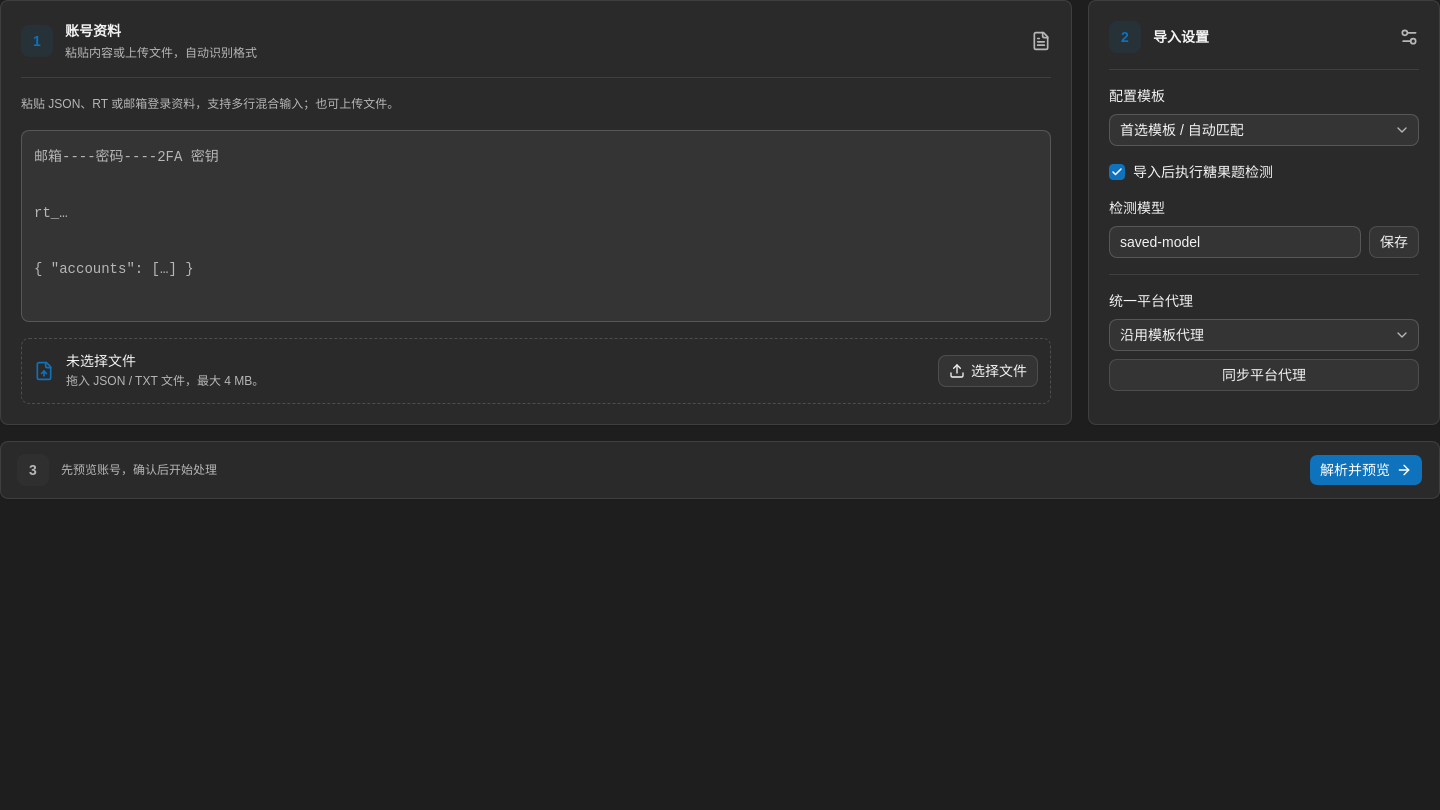
Test: 导入任务启动后清空账号资料并恢复已保存的默认模型
Replace the text in the field labelled "检测模型" with "temporary-model" at (1235, 242), box 1109,226 -> 1361,258
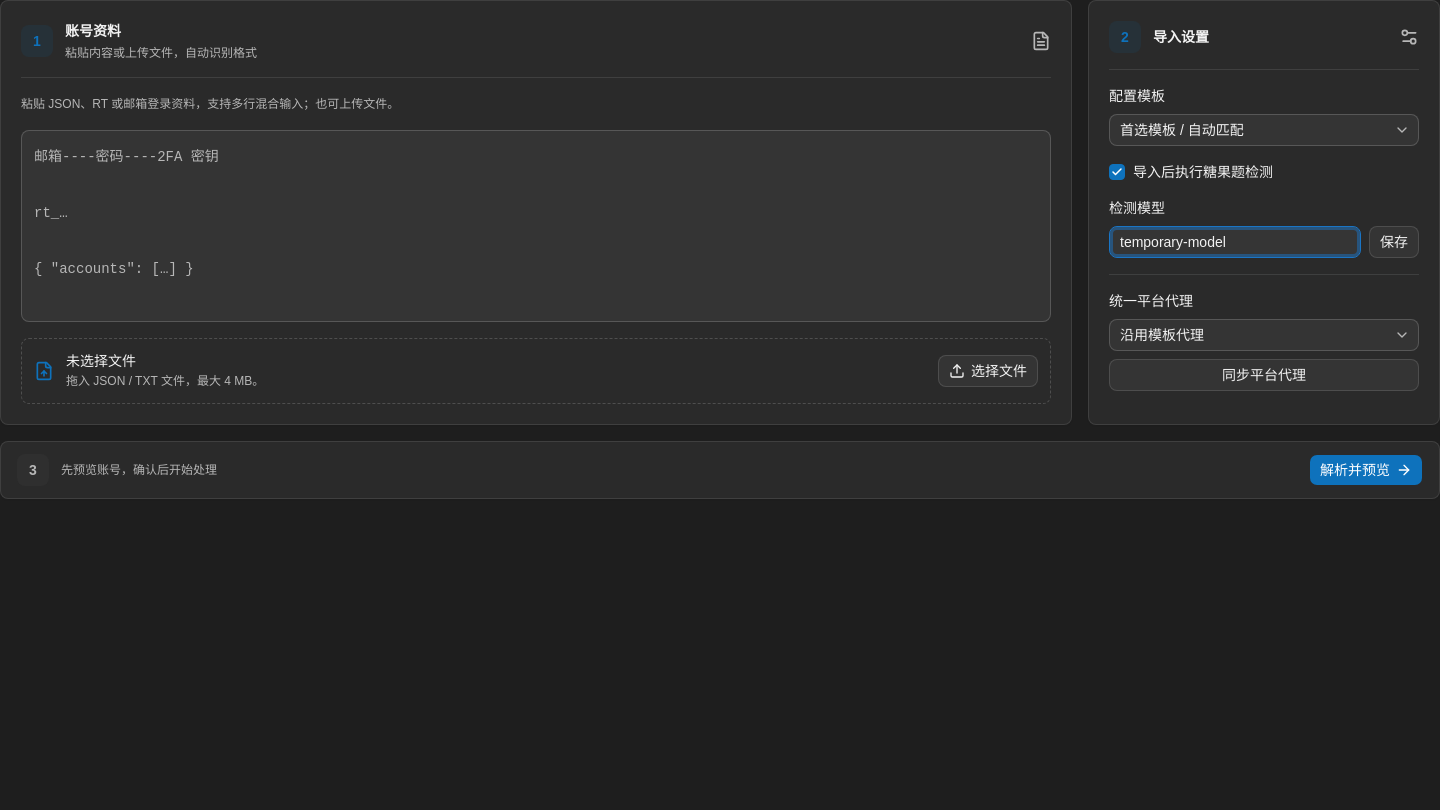
Type "rt_fixture" into the text box labelled "账号资料" at (536, 226), box 21,130 -> 1051,322
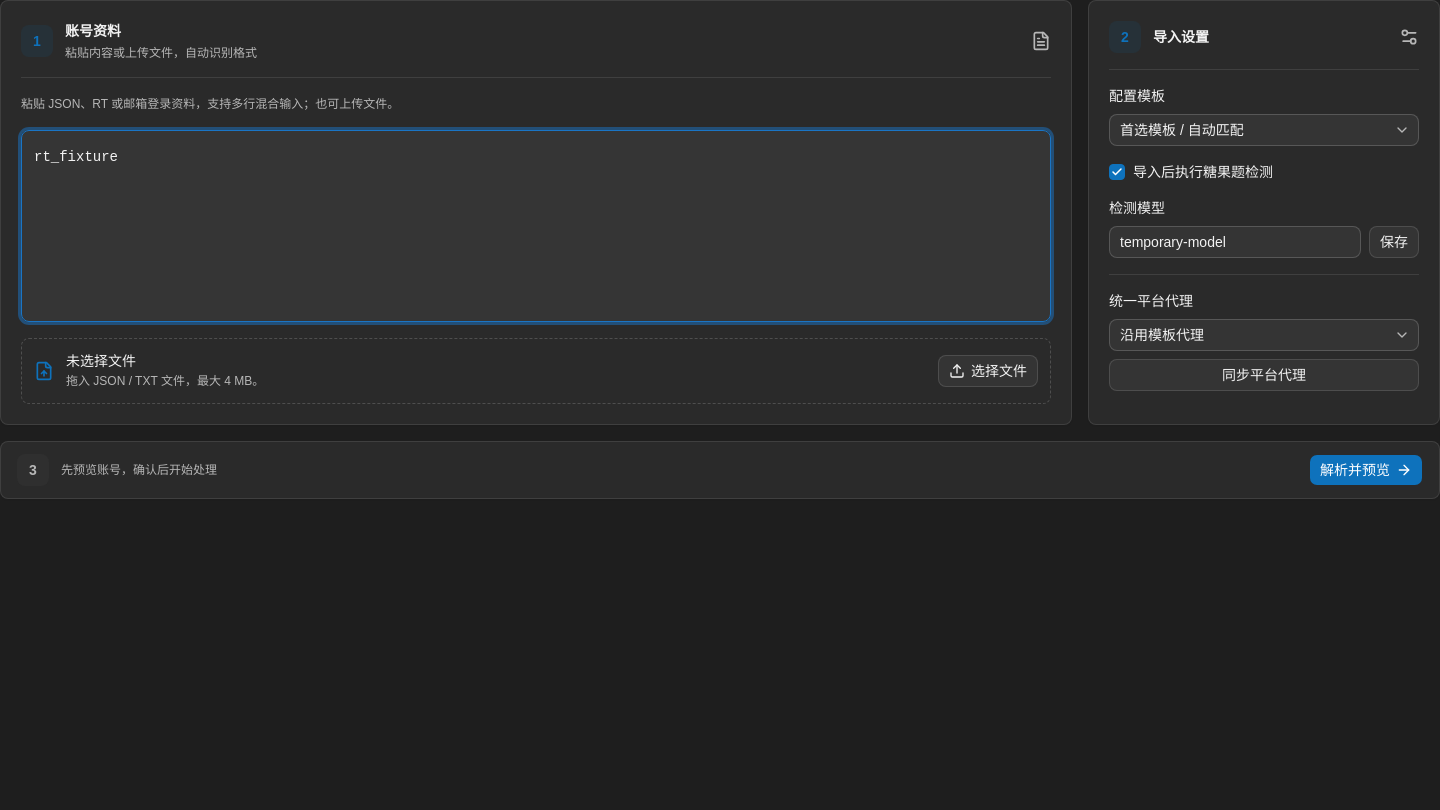
Click the button "解析并预览" at (1366, 470), box 1309,454 -> 1423,486
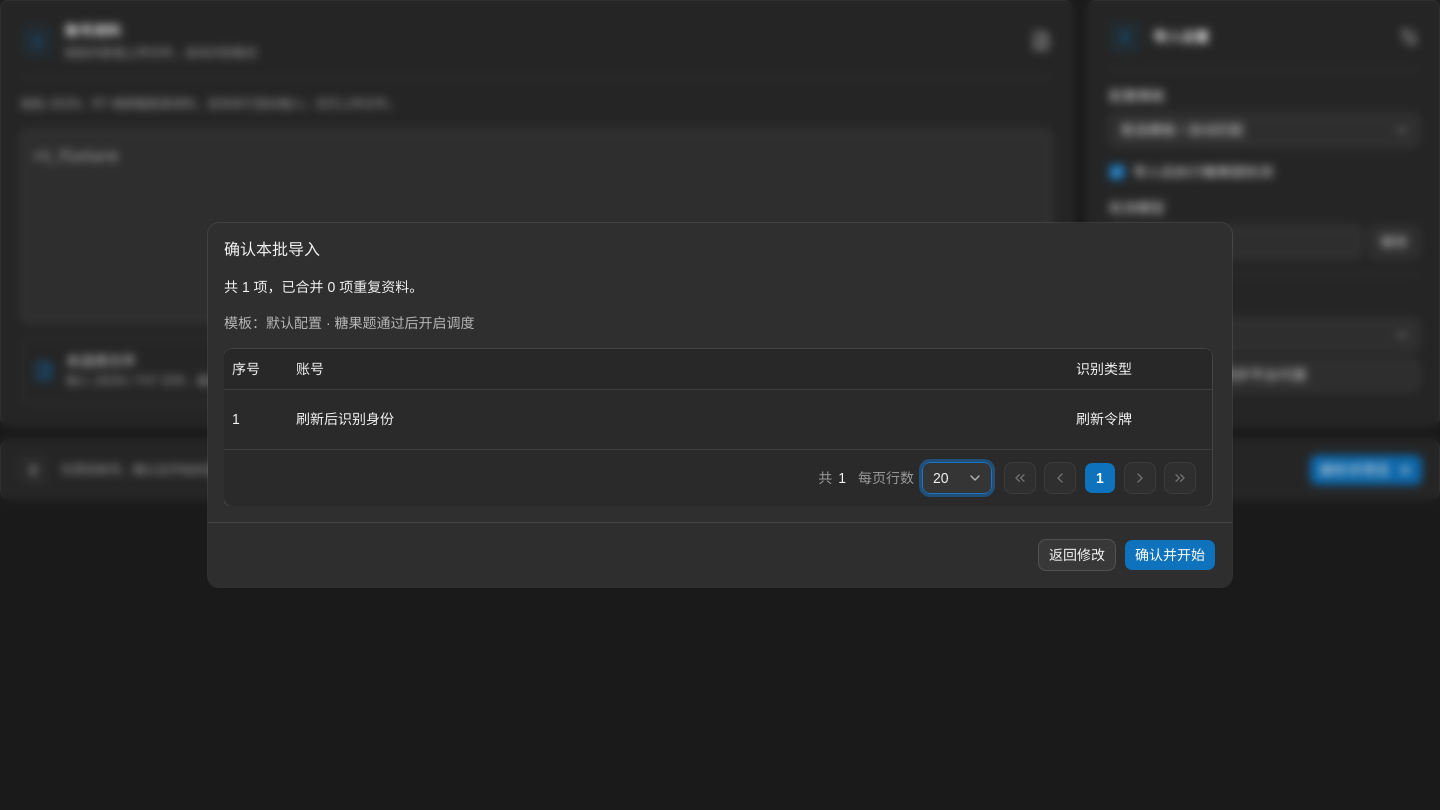
Click the button "确认并开始" at (1170, 555), box 1124,539 -> 1216,571
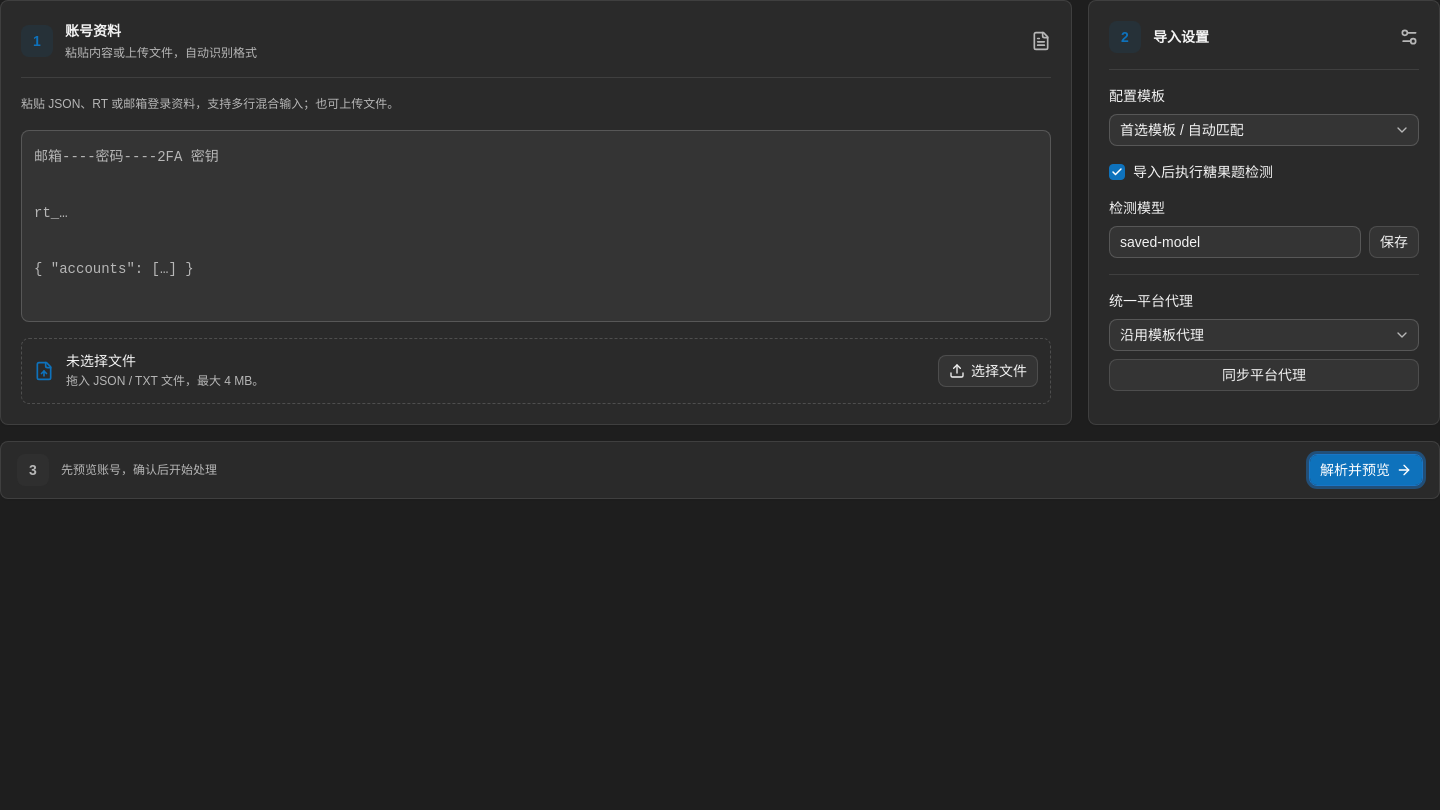
Expected: the text box labelled "账号资料" is empty, 21,130 -> 1051,322
Expected: the field labelled "检测模型" holds "saved-model", 1109,226 -> 1361,258
